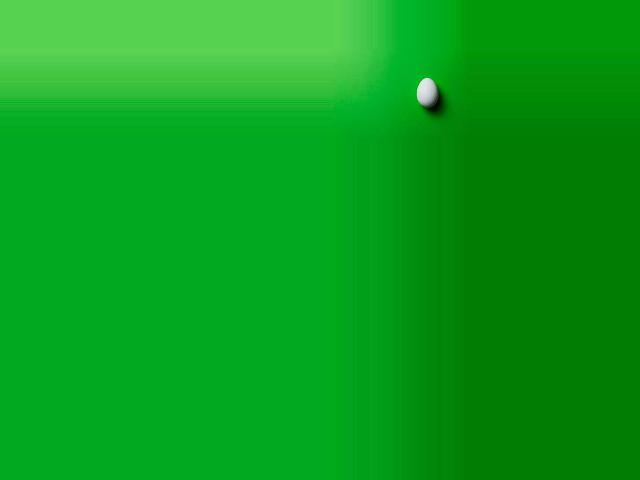egg: (416, 78, 438, 108)
